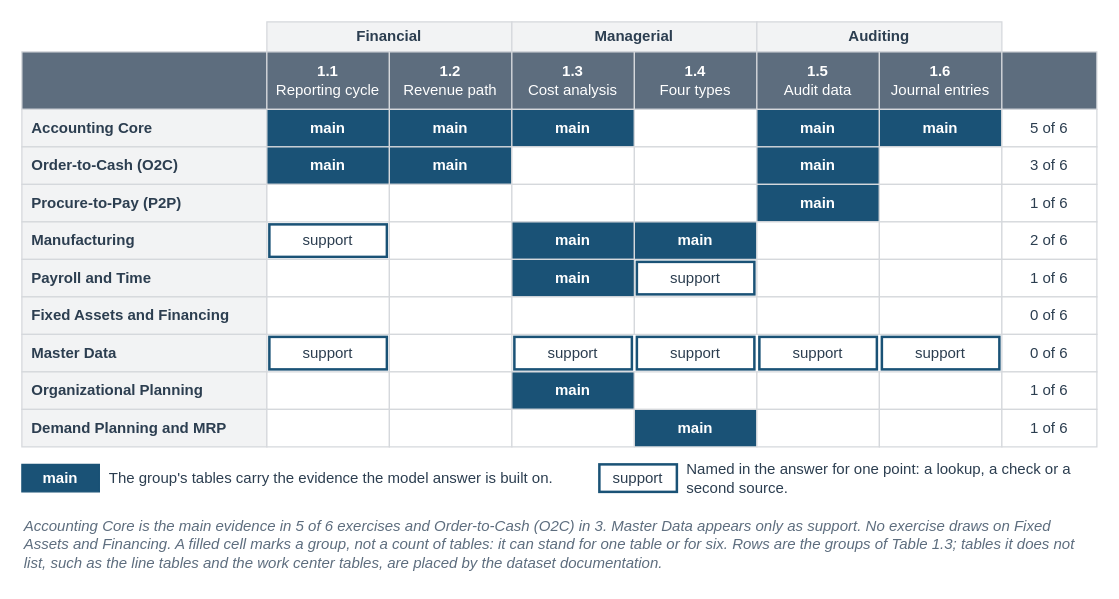
This 1119x599 diagram has some shape labels left out. The centre of each missing label's shape, as x and y in pixels:
Main in: the point at 1049,80
Table group: the point at 144,80
